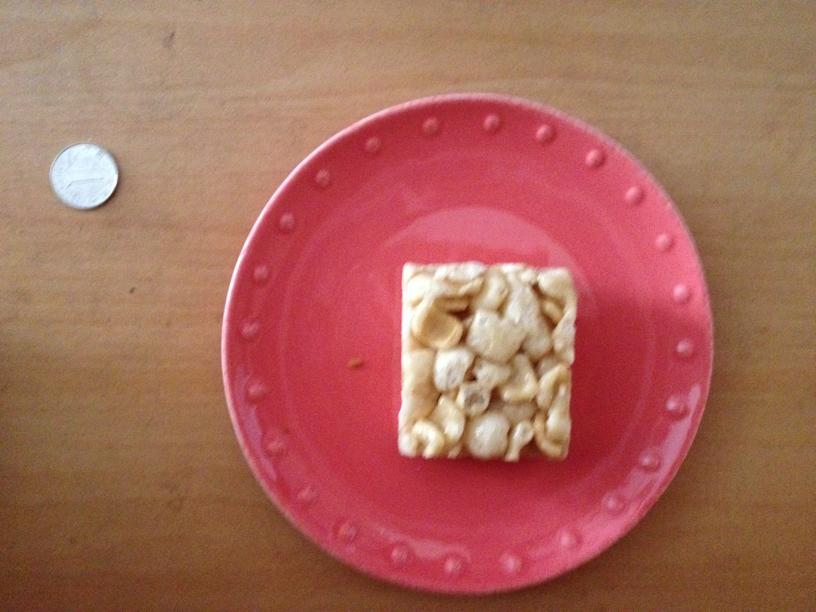coin: (50, 145, 117, 210)
sachima: (396, 256, 575, 464)
